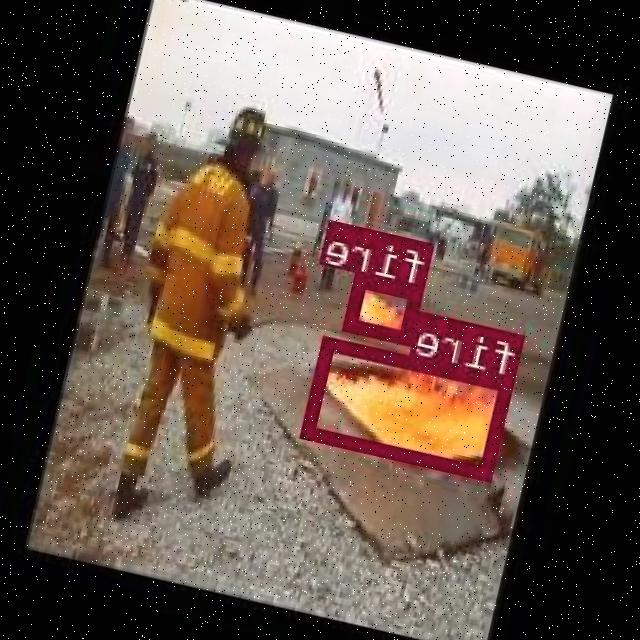fire: (304, 335, 515, 480), (346, 272, 424, 344)
